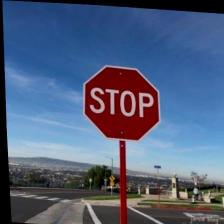Stop: (78, 63, 162, 142)
